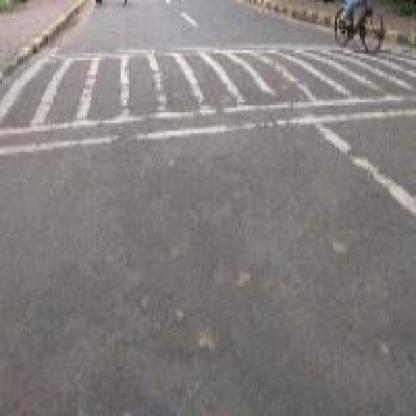Speed Bump: (0, 40, 331, 158)
